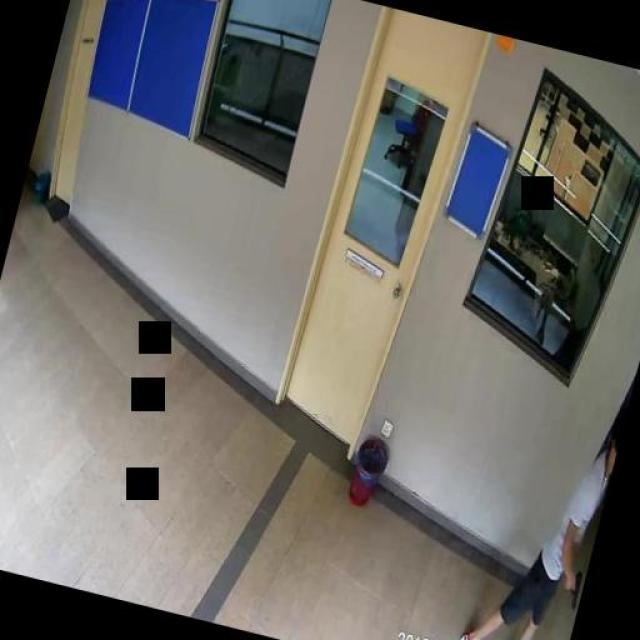gun: (558, 566, 584, 610)
